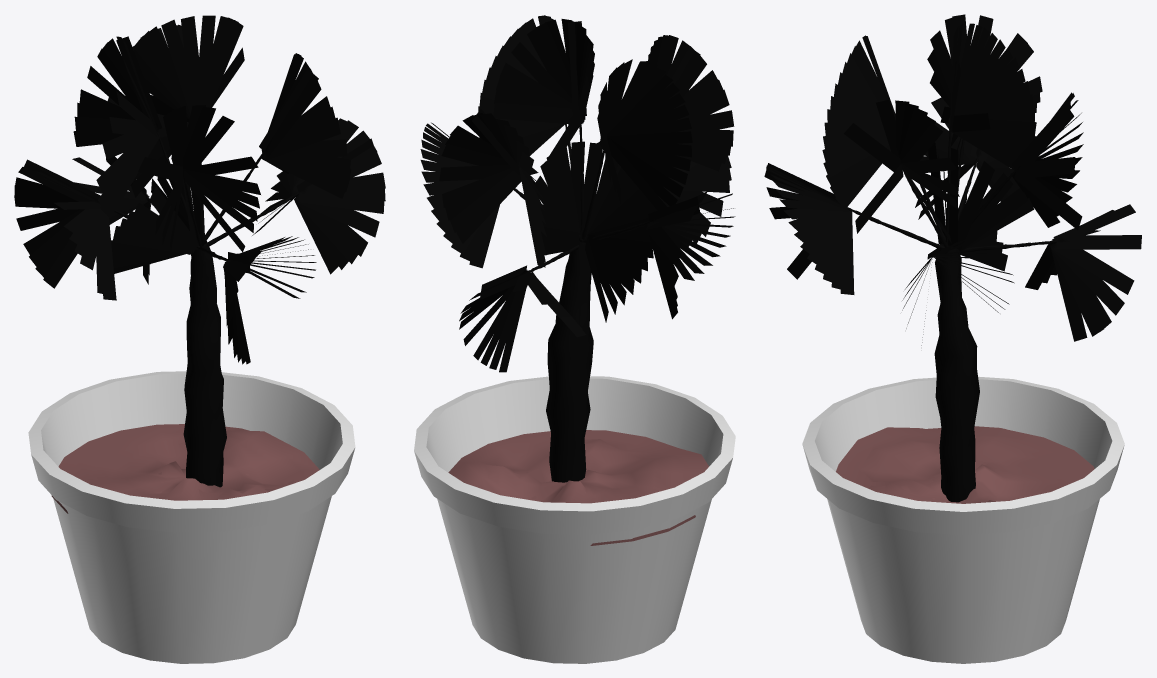
The model's file is Palme.fbx.
3 renders of one model, left to right at view 1: azimuth 30°, elevation 25°; view 2: azimuth 150°, elevation 25°; view 3: azimuth 270°, elevation 25°, orthographic.
Visible parts, largest first — view 1: Palme:polySurface1; view 2: Palme:polySurface1; view 3: Palme:polySurface1.
Part boxes in pixels (<box>): Palme:polySurface1: <box>14,15,385,663</box>; Palme:polySurface1: <box>414,15,735,663</box>; Palme:polySurface1: <box>764,14,1141,663</box>.
Bounding box in the file's own units: 12.67 × 23.3 × 13.43.
